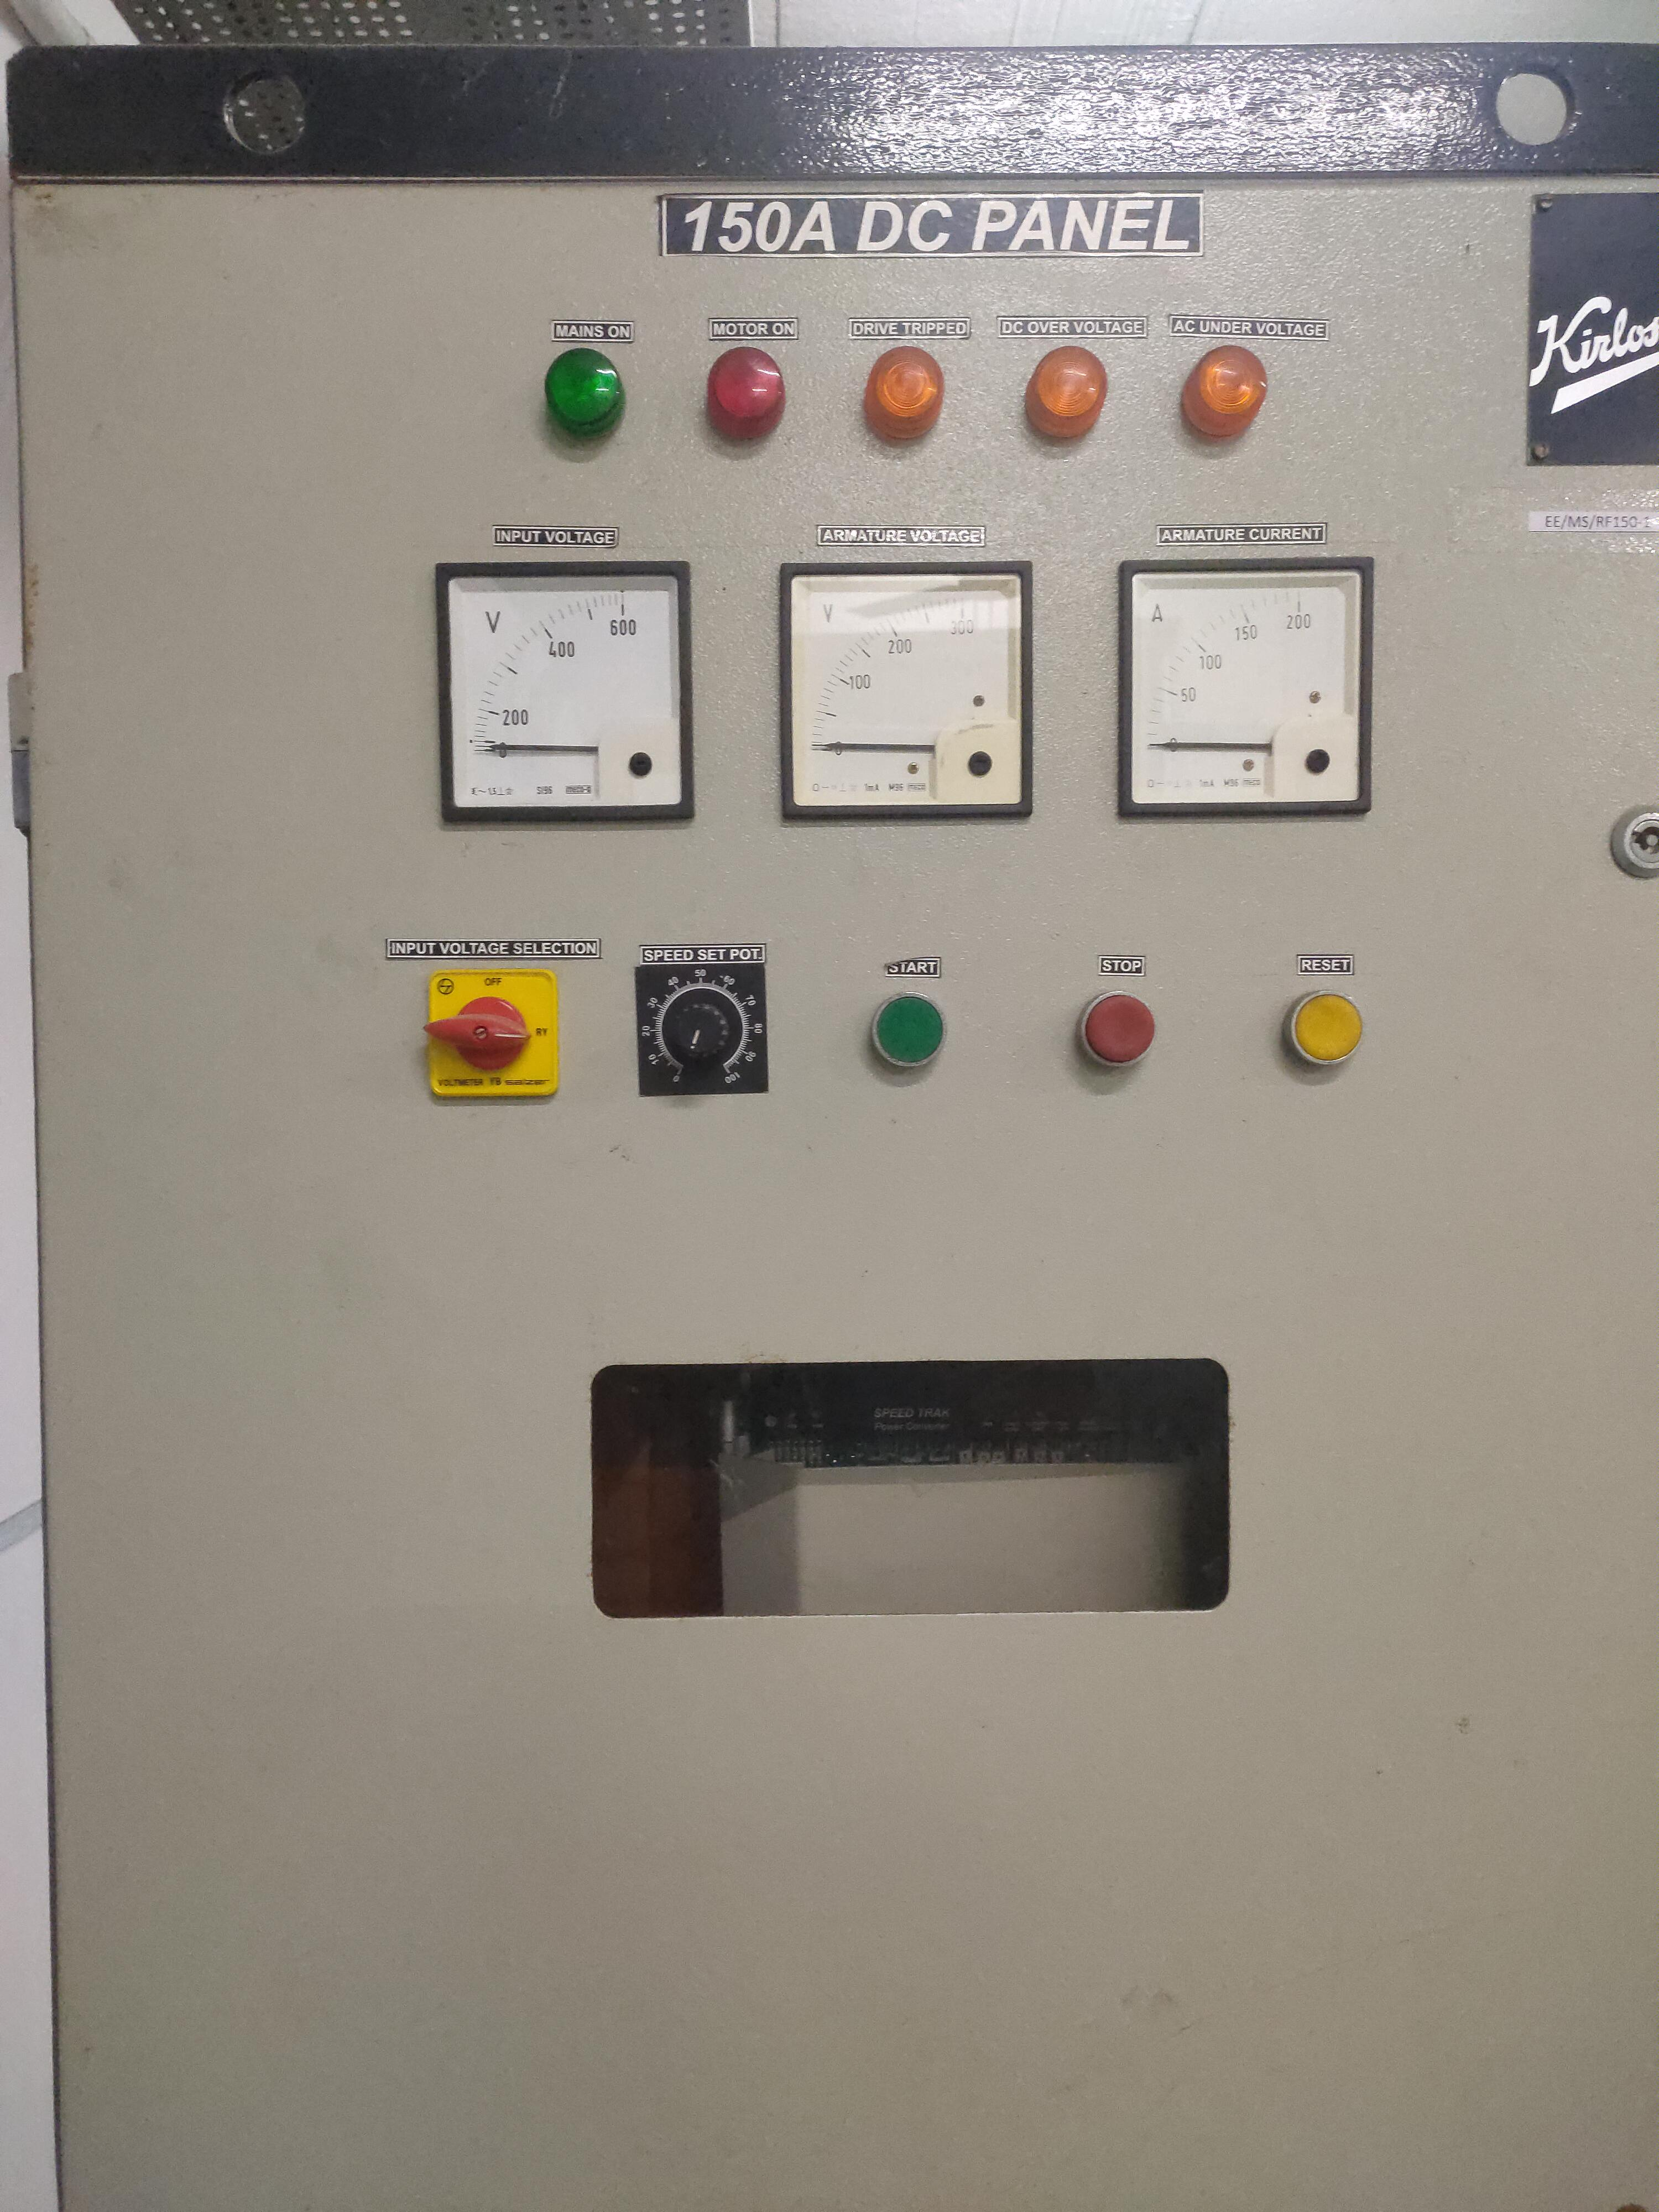Light Indications: (477, 291, 1310, 489)
